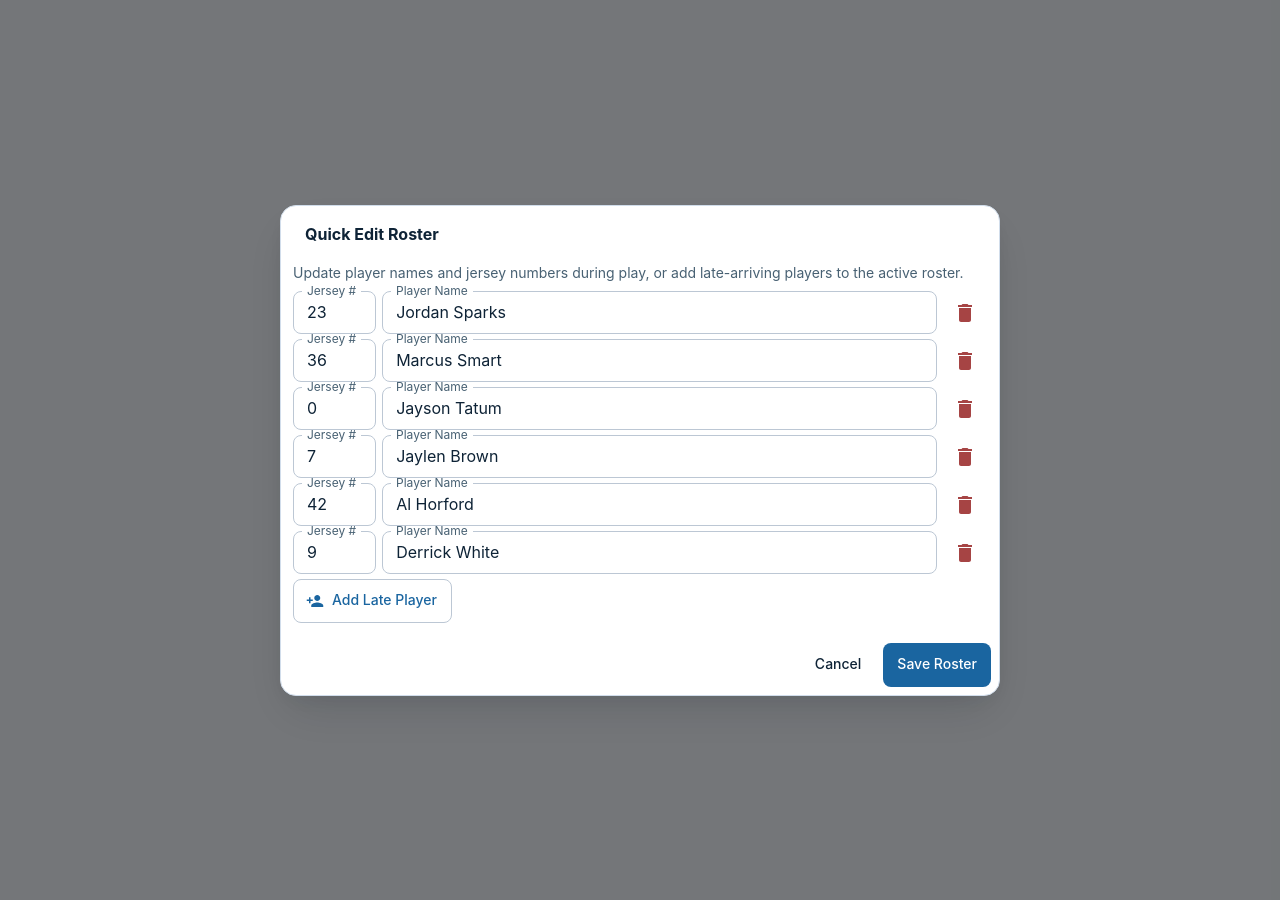
QuickEditRosterDialog › validates against duplicate case-insensitive player names on save
// Change Marcus Smart's name to "jordan sparks" (duplicate case-insensitive)
Replace the text in the 2nd field showing "Marcus Smart" with "jordan sparks": coordinates (660, 360) [382,339,937,382]
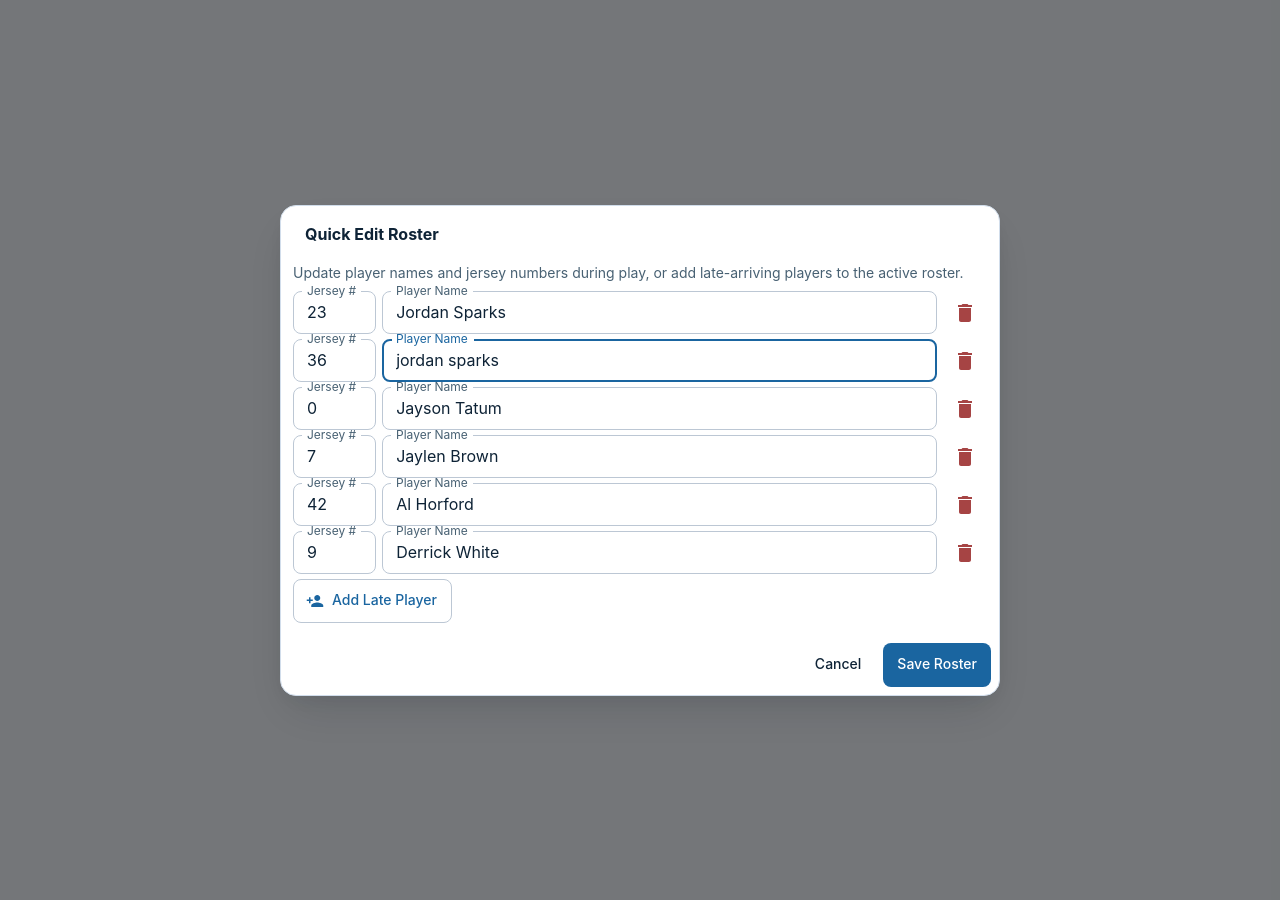
Click the button "Save Roster": coordinates (937, 664) [883,642,991,686]
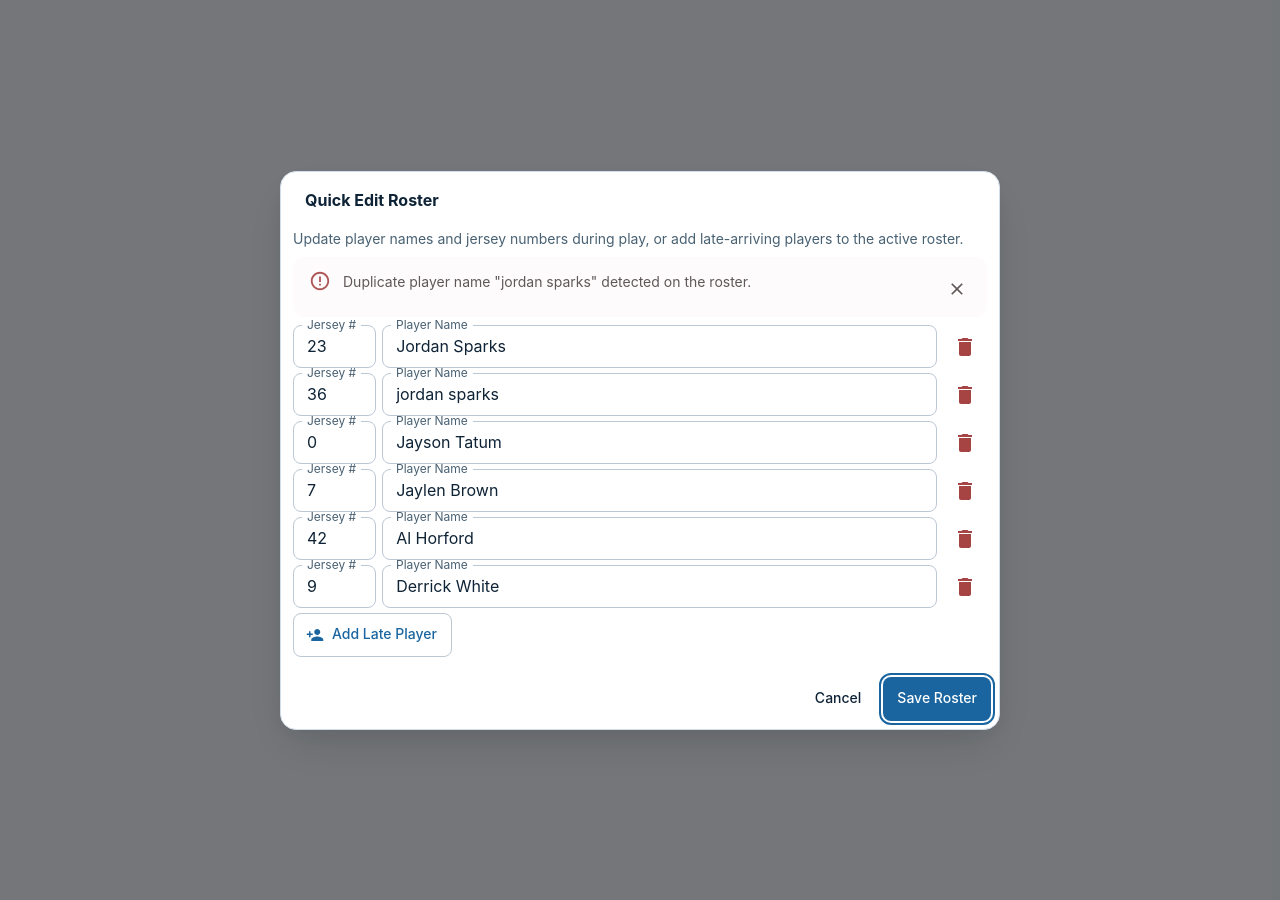
Now the text "Duplicate player name \"jordan sparks\" detected" is shown, box [343,272,751,290]
